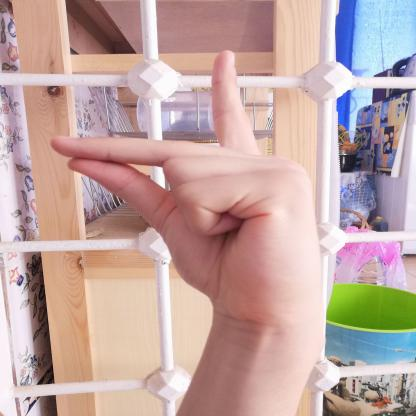TAA: (41, 40, 333, 335)
